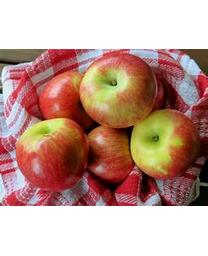apple: (78, 51, 157, 128), (15, 116, 88, 193), (129, 108, 200, 178), (38, 72, 94, 126), (86, 125, 134, 187)
